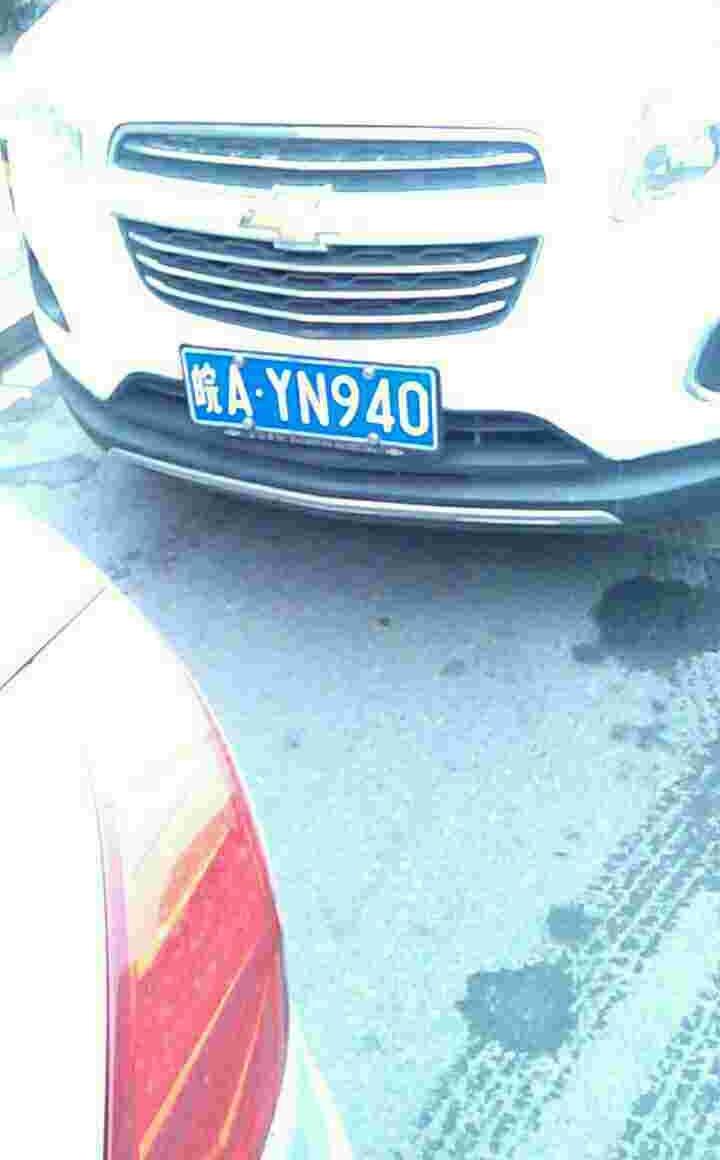license_plate: (183, 343, 426, 453)
